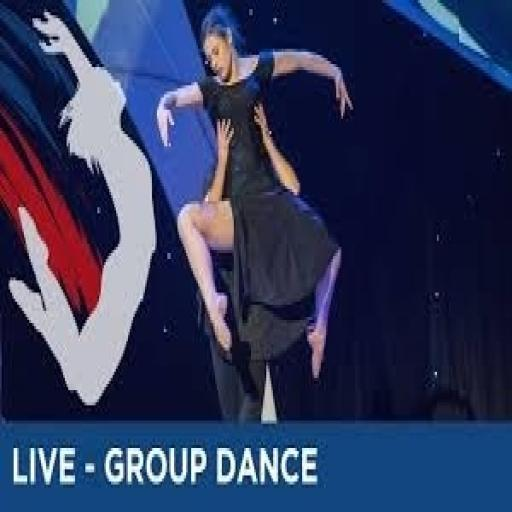dancing: (155, 3, 357, 387)
